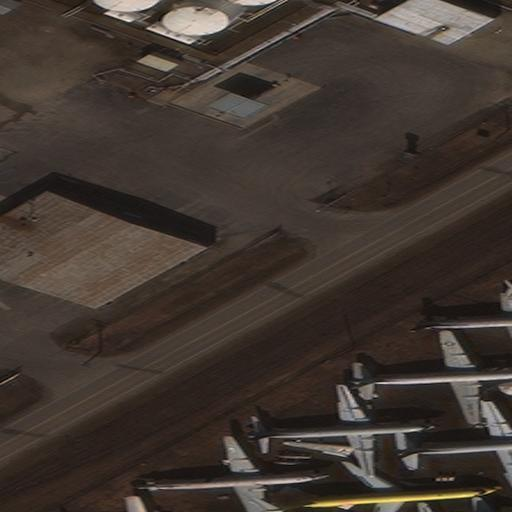Large Civil Transport: (244, 383, 436, 479), (346, 329, 512, 425)
Medium Civil Transport: (134, 437, 329, 512), (260, 461, 498, 512), (393, 400, 512, 486), (407, 279, 512, 346)
